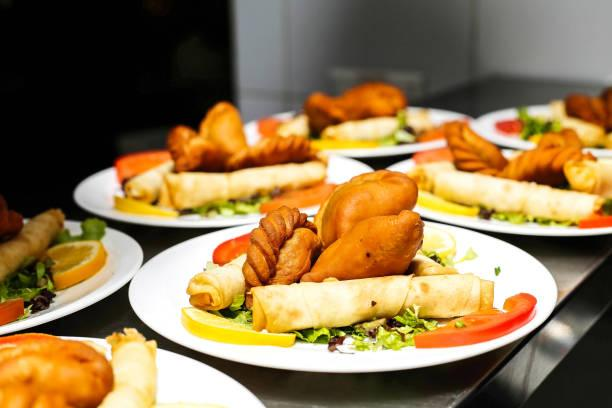Braised Crucian Carp: (129, 219, 558, 374), (76, 126, 366, 228), (380, 145, 612, 231)
